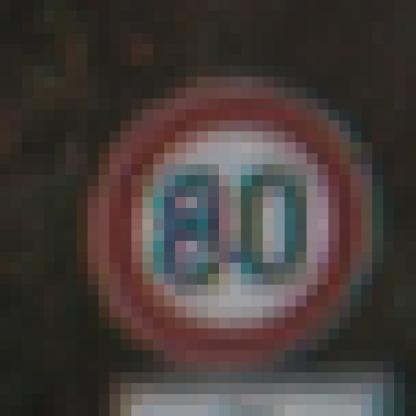Speed Limit -80-: (78, 58, 388, 368)
